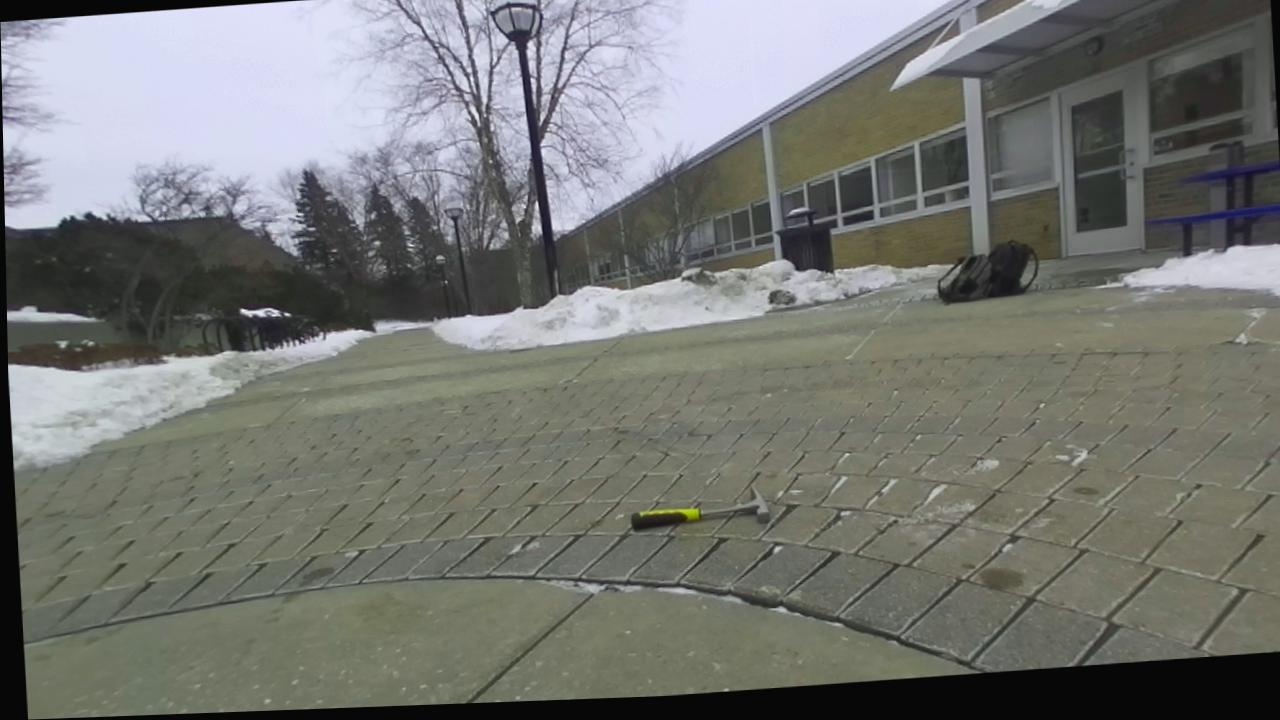pick: (631, 485, 770, 529)
